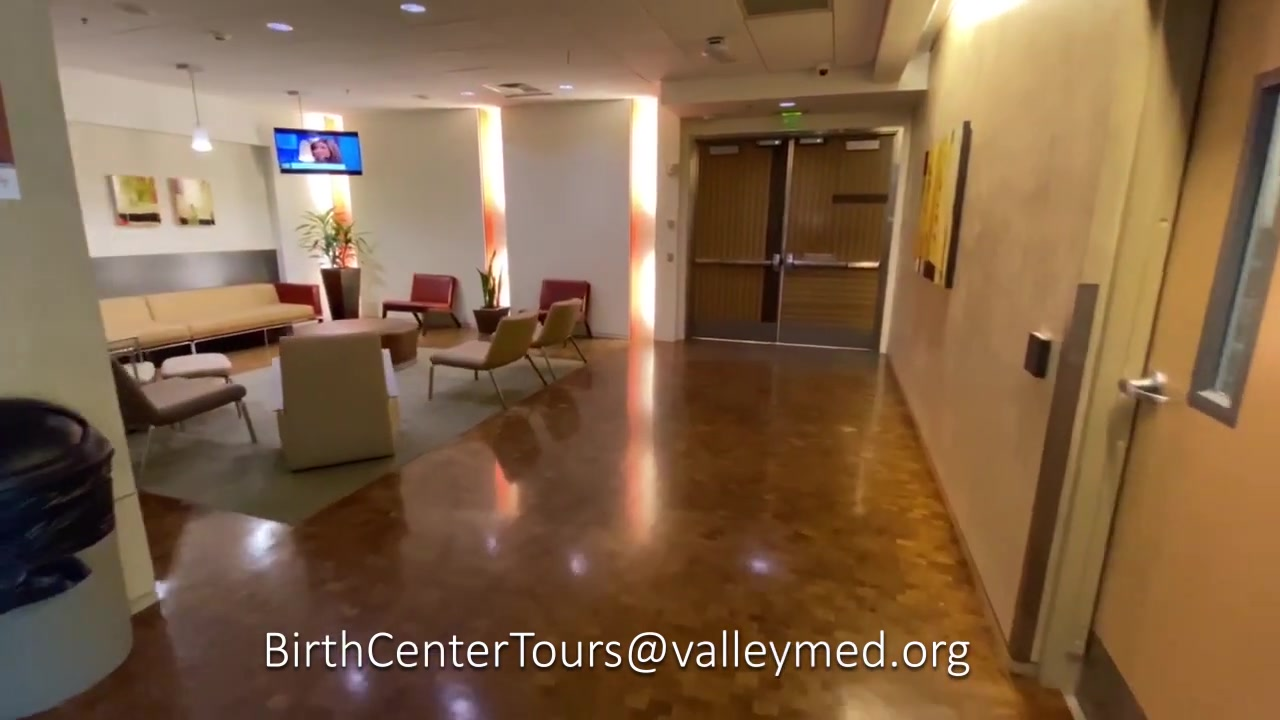TV: (271, 127, 364, 177)
door_handle: (1118, 369, 1172, 406)
push_latch: (788, 251, 881, 271), (694, 255, 781, 273)
sofa: (99, 283, 316, 369), (272, 334, 398, 472), (109, 369, 256, 476), (427, 313, 547, 410), (382, 272, 462, 336), (529, 299, 587, 379)
waste_bin: (1, 397, 134, 720)
